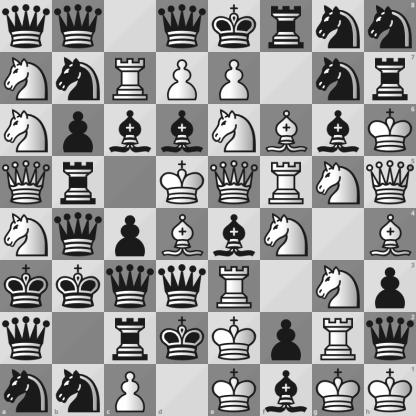B: (364, 209, 416, 260), (157, 209, 208, 260), (261, 105, 312, 156)
K: (312, 364, 364, 416), (364, 104, 416, 156), (364, 364, 416, 416), (209, 364, 260, 416), (157, 157, 208, 208), (209, 313, 260, 364)
N: (1, 53, 52, 104), (1, 105, 52, 156), (1, 209, 52, 260), (209, 105, 260, 156), (261, 209, 312, 260), (313, 157, 364, 208), (313, 261, 364, 312)
P: (104, 364, 156, 416), (157, 53, 208, 104), (209, 53, 260, 104)
Q: (364, 156, 416, 209), (1, 157, 52, 208), (209, 157, 260, 208)
R: (105, 53, 156, 104), (209, 261, 260, 312), (261, 157, 312, 208), (313, 313, 364, 364)
b: (260, 364, 312, 416), (105, 105, 156, 156), (157, 105, 208, 156), (209, 209, 260, 260), (313, 105, 364, 156)
board: (0, 0, 415, 415)
k: (1, 261, 52, 312), (53, 261, 104, 312), (157, 313, 208, 364), (209, 1, 260, 52)
n: (0, 364, 52, 416), (52, 364, 104, 416), (364, 0, 416, 52), (53, 53, 104, 104), (313, 1, 364, 52), (313, 53, 364, 104)
p: (364, 260, 416, 312), (53, 105, 104, 156), (105, 209, 156, 260), (261, 313, 312, 364)
q: (364, 312, 416, 364), (1, 1, 52, 52), (1, 313, 52, 364), (53, 1, 104, 52), (53, 209, 104, 260), (105, 261, 156, 312), (157, 1, 208, 52), (157, 261, 208, 312)
r: (364, 52, 416, 104), (53, 157, 104, 208), (105, 313, 156, 364), (261, 1, 312, 52)
